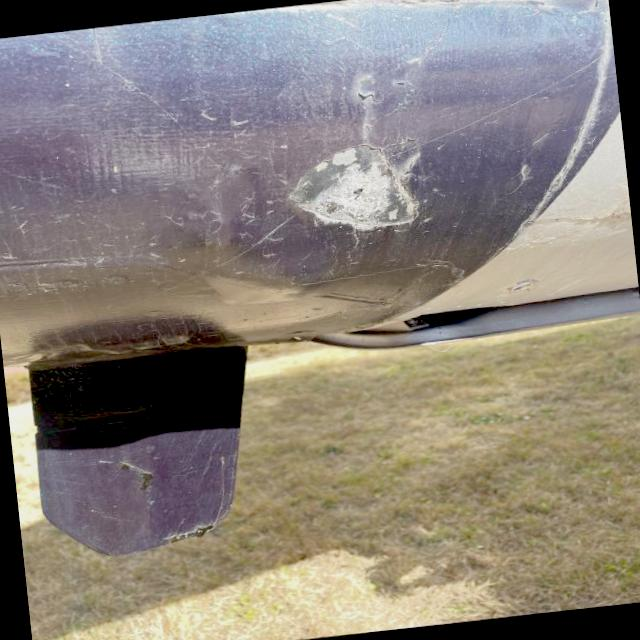crack: (351, 70, 434, 112)
dent: (282, 133, 431, 240)
